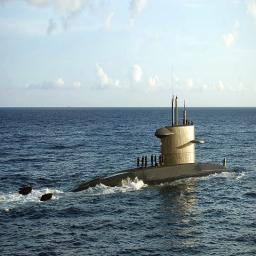submarine: (19, 96, 243, 202)
